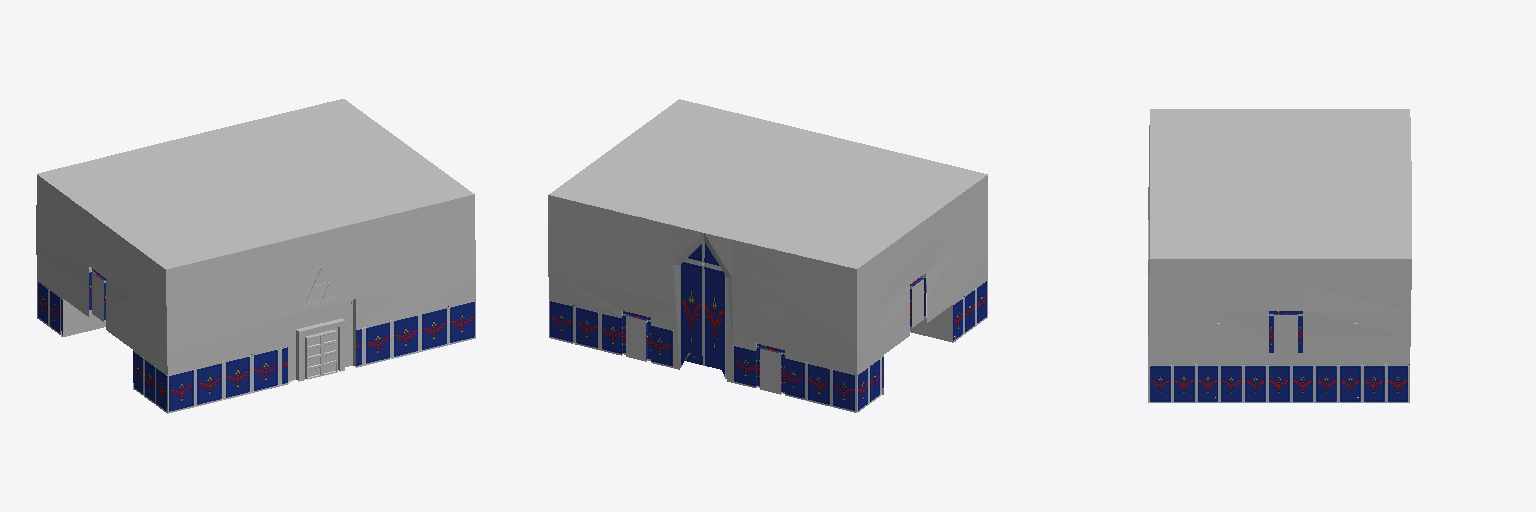
The picture shows the model from 3 angles: view 1: azimuth 30°, elevation 25°; view 2: azimuth 150°, elevation 25°; view 3: azimuth 270°, elevation 25°; orthographic projection.
Visible parts, largest first — view 1: Collection#__MainRoom#__Plane.002; view 2: Collection#__MainRoom#__Plane.002; view 3: Collection#__MainRoom#__Plane.002.
Boxes of the visible parts, <box> form: Collection#__MainRoom#__Plane.002: <box>36,99,475,413</box>; Collection#__MainRoom#__Plane.002: <box>548,99,987,412</box>; Collection#__MainRoom#__Plane.002: <box>1148,109,1411,402</box>.
Size of the model in its own units: 733 by 325 by 539.
25 materials, 1 textured.